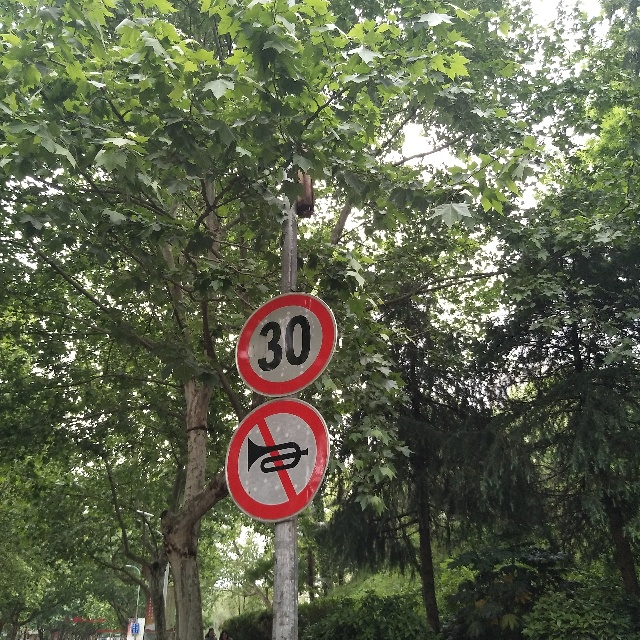nohonk: (225, 396, 332, 522)
